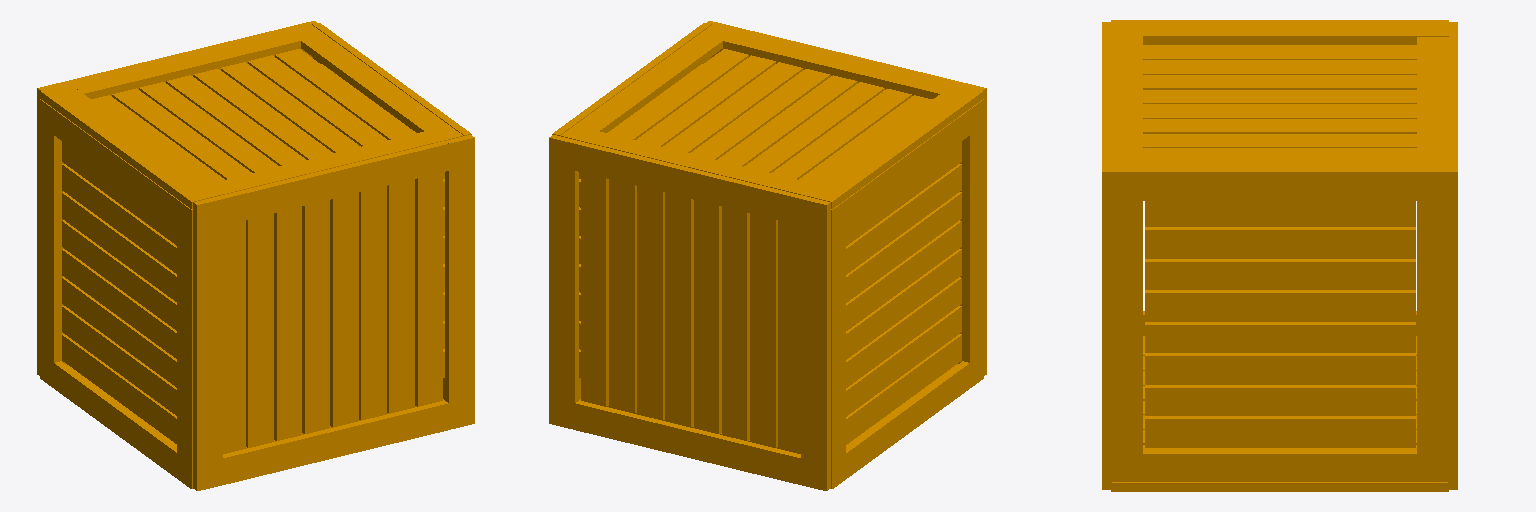
The robot description file, URDF, robot "none":
<robot name="none">
       <link name="none">
           <visual>
               <origin rpy="0 0 0" xyz="0 0 0" />
               <geometry>
                   <mesh filename="crate.obj" />
               </geometry>
           </visual>
          <collision>
		<origin rpy="0 0 0" xyz="0 0.5 0" />
              <geometry>
                  <box size="1.000000 0.989746 0.981686" />
              </geometry>
          </collision>

          <inertial>
            <mass value="100.0" />
            <inertia ixx="0.0" ixy="0.0" ixz="0.0" iyy="0.0" iyz="0.0" izz="0.0" />
          </inertial>
      </link>
  </robot>

--- Render facts (derived) ---
Views: 3 orthographic renders of the robot side by side, from view 1: azimuth 30°, elevation 25°; view 2: azimuth 150°, elevation 25°; view 3: azimuth 270°, elevation 25°.
Model none with 1 links and 0 joints (none), rooted at none, posed all joints at 0.
Visible links, largest first — view 1: none; view 2: none; view 3: none.
Boxes of the visible links, bbox=[...] form: none: bbox=[37, 21, 474, 490]; none: bbox=[549, 21, 986, 490]; none: bbox=[1102, 20, 1457, 491].
Bounding box of the posed robot: 1 × 0.9897 × 0.9817 m (x, y, z).
Meshes: 1 distinct files referenced, 1 mesh visuals loaded (1 OBJ).